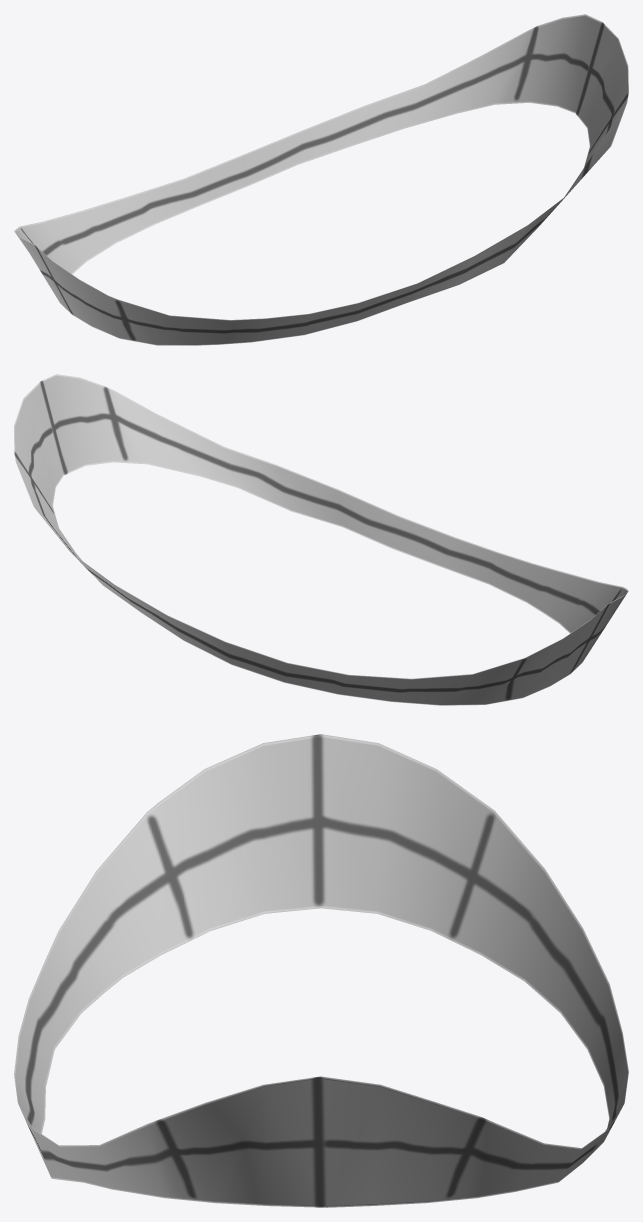
3 views of the same model, one above another, from view 1: azimuth 30°, elevation 25°; view 2: azimuth 150°, elevation 25°; view 3: azimuth 270°, elevation 25° (orthographic). The views are drawn at different scales.
Visible parts, largest first — view 1: 立方体.006; view 2: 立方体.006; view 3: 立方体.006.
Boxes of the visible parts, bbox=[...] form: 立方体.006: bbox=[14, 14, 628, 345]; 立方体.006: bbox=[14, 374, 628, 705]; 立方体.006: bbox=[14, 734, 628, 1207].
Bounding box in the file's own units: 66.51 × 19.11 × 35.23.
